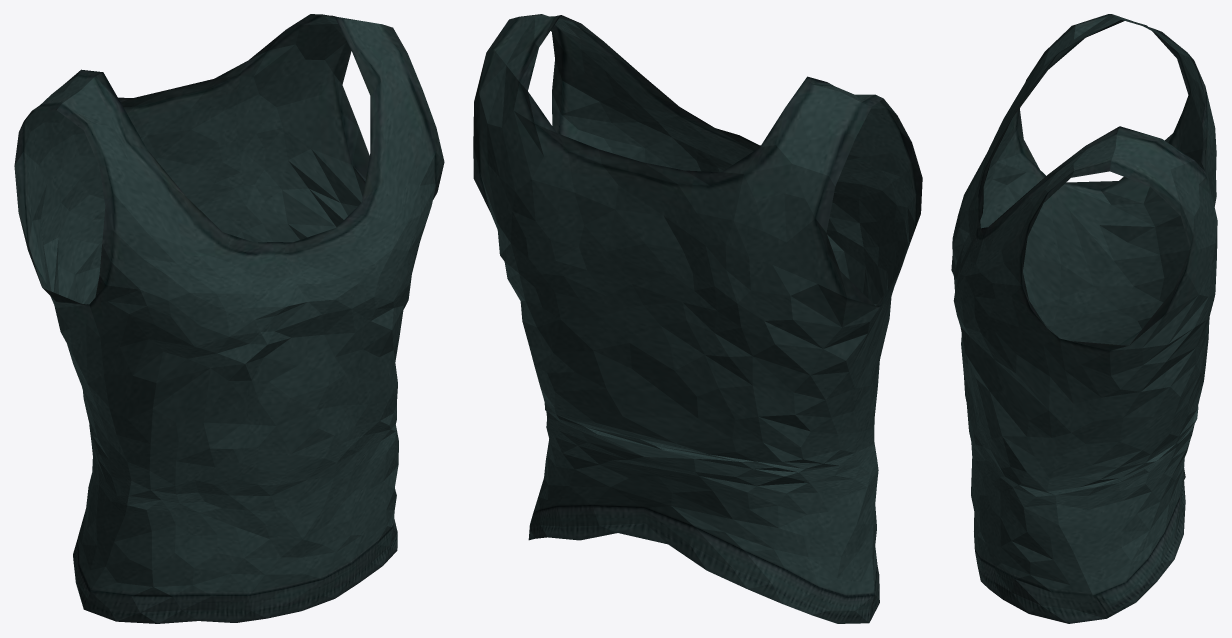
Rendered from mhw_elvs_lara_tank1.glb.
3 renders of one model, left to right at view 1: azimuth 30°, elevation 25°; view 2: azimuth 150°, elevation 25°; view 3: azimuth 270°, elevation 25°, orthographic. The views are drawn at different scales.
Parts seen in each view (by area): view 1: mhw_elvs_lara_tank1; view 2: mhw_elvs_lara_tank1; view 3: mhw_elvs_lara_tank1.
Boxes of the visible parts, <box> form: mhw_elvs_lara_tank1: <box>14,14,444,623</box>; mhw_elvs_lara_tank1: <box>473,14,922,623</box>; mhw_elvs_lara_tank1: <box>951,14,1217,623</box>.
Size of the model in its own units: 0.3794 by 0.5303 by 0.2603.
Materials: 1 (1 with a texture image).
